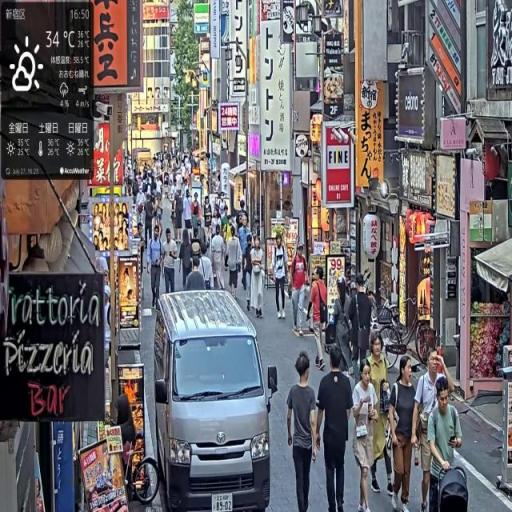person: (317, 343, 356, 512), (411, 346, 448, 512), (286, 351, 320, 512), (426, 374, 465, 512), (387, 354, 419, 512), (352, 359, 381, 512), (366, 332, 391, 496), (307, 265, 331, 371), (290, 243, 310, 337), (147, 224, 165, 312), (272, 234, 290, 322), (249, 232, 267, 320), (228, 227, 243, 300), (212, 227, 228, 293), (164, 226, 179, 296), (180, 228, 195, 292), (185, 259, 209, 291)
